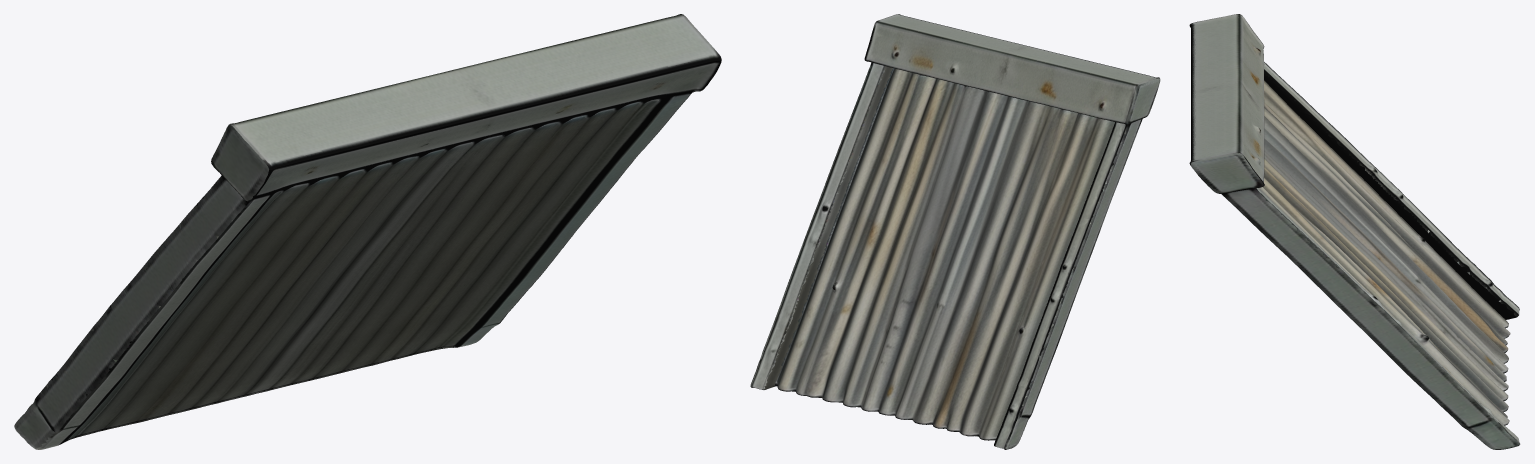
File: door-garage-leaf.glb
3 renders of one model, left to right at view 1: azimuth 30°, elevation 25°; view 2: azimuth 150°, elevation 25°; view 3: azimuth 270°, elevation 25°, orthographic. The views are drawn at different scales.
Parts seen in each view (by area): view 1: tmp7w9dzocd.ply; view 2: tmp7w9dzocd.ply; view 3: tmp7w9dzocd.ply.
Part boxes in pixels (left/top/right/bottom): tmp7w9dzocd.ply: left=14, top=14, right=721, bottom=449; tmp7w9dzocd.ply: left=750, top=14, right=1160, bottom=449; tmp7w9dzocd.ply: left=1189, top=14, right=1520, bottom=449.
Size of the model in its own units: 1 by 1 by 1.
1 material, 1 textured.
